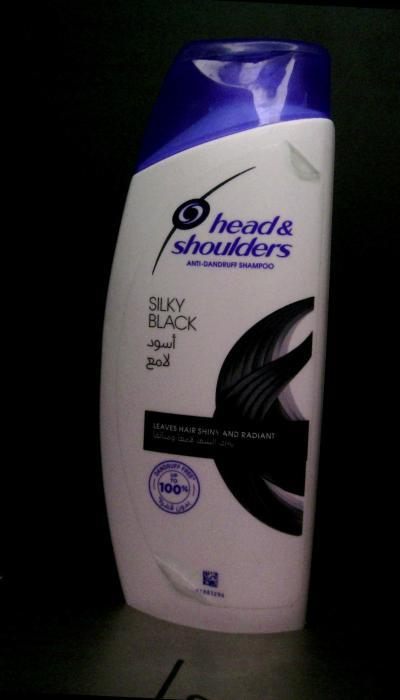adhesion_unacc: (153, 556, 214, 606), (284, 139, 328, 185)
